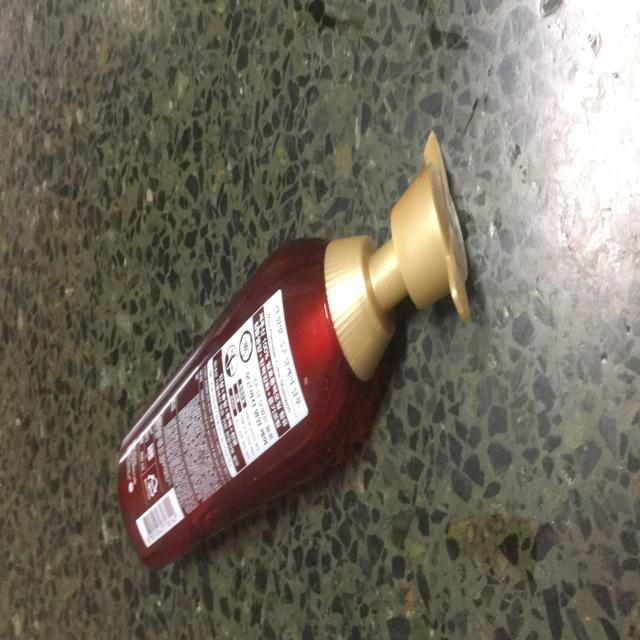bottle: (110, 128, 471, 584)
